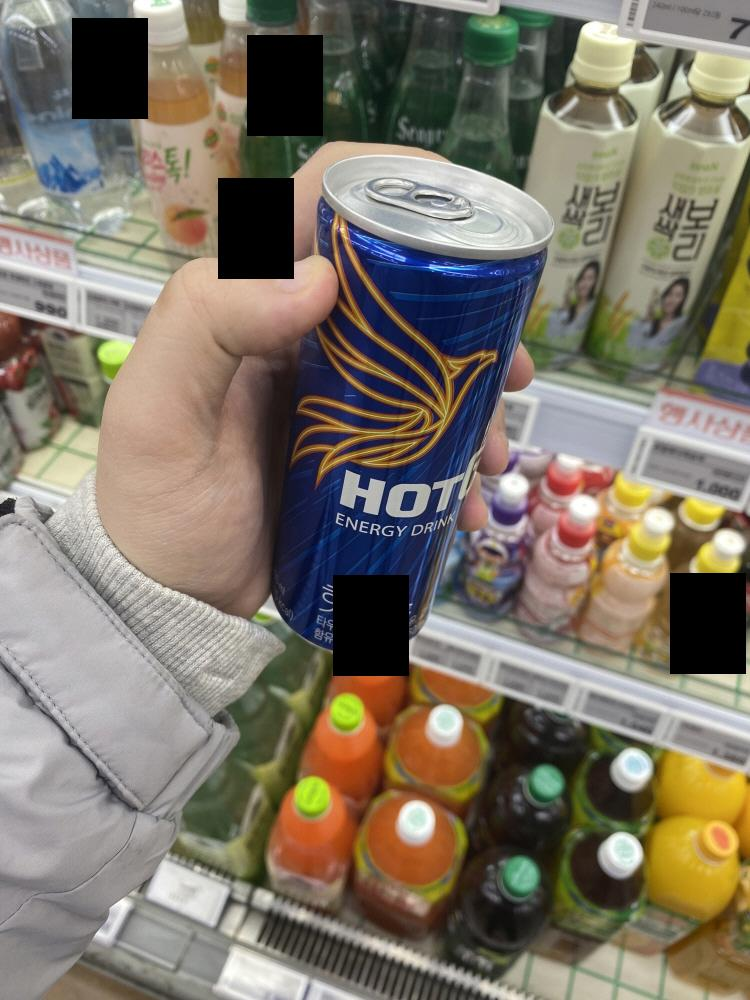hotsix_org: (268, 140, 537, 651)
